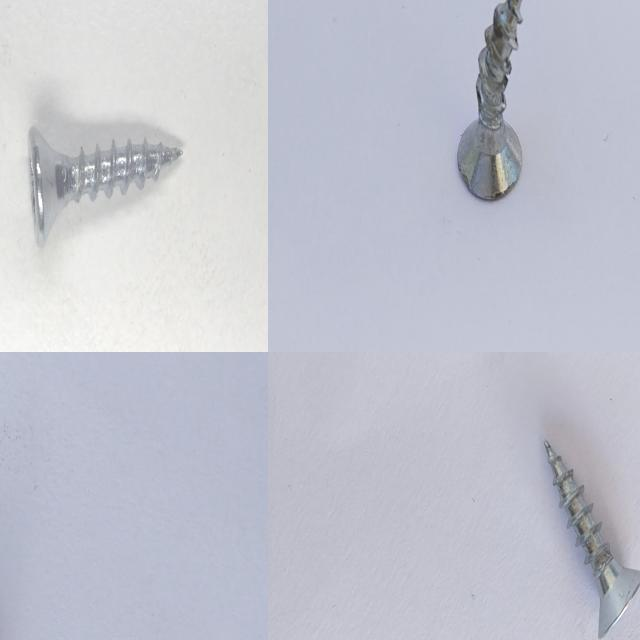Screw: (23, 122, 185, 248), (544, 440, 640, 638), (457, 0, 522, 199)
